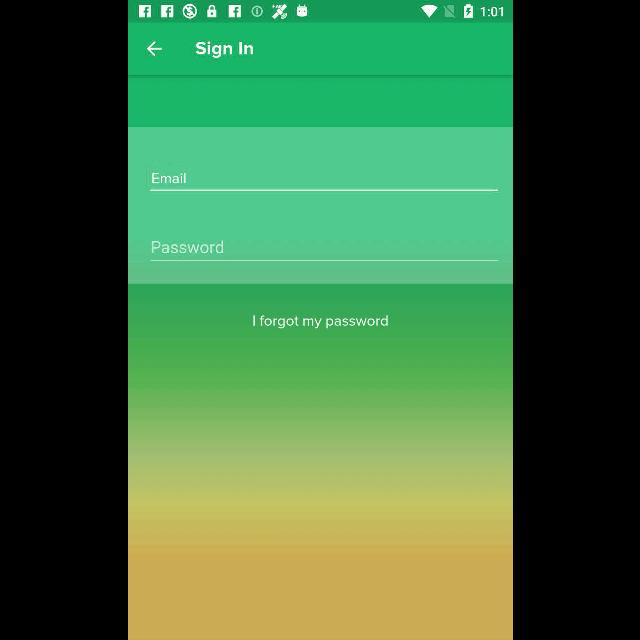icon: (146, 42, 162, 56)
input: (150, 240, 498, 262), (150, 172, 498, 192)
text: (252, 315, 388, 329), (151, 240, 223, 253), (195, 42, 253, 58), (151, 172, 185, 184)
toolbar: (128, 24, 512, 76)
uppertaskbar: (128, 1, 512, 23)
